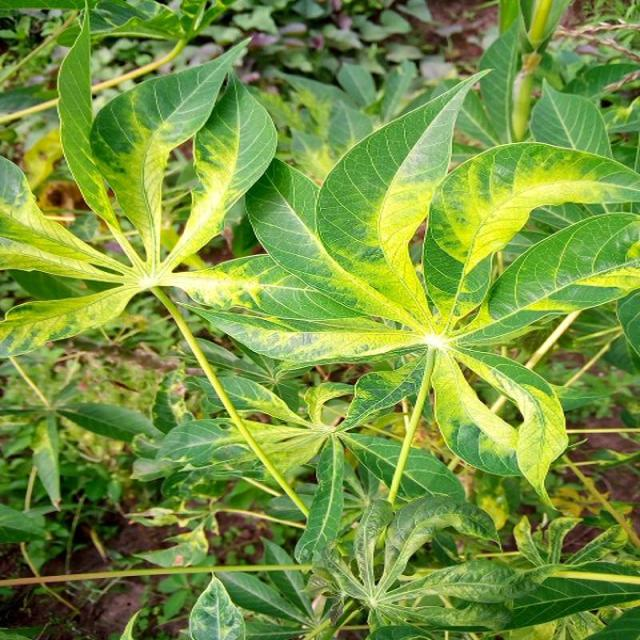cassava leaf: (168, 67, 638, 509), (314, 66, 493, 327), (422, 139, 639, 324)
